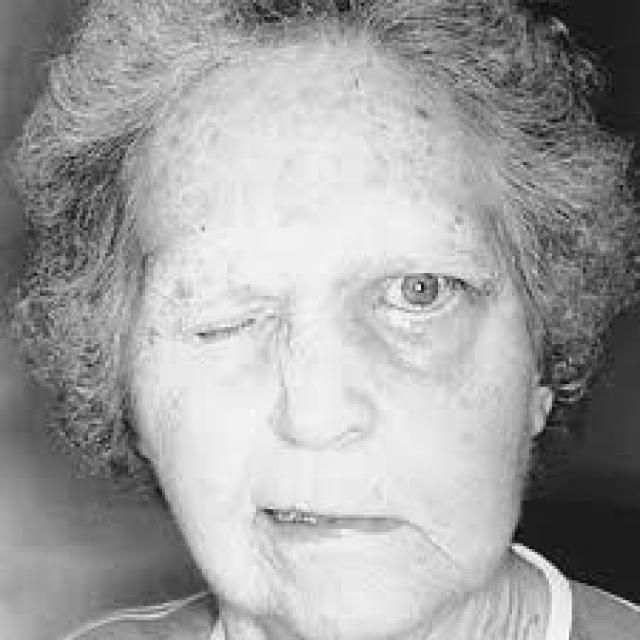stroke_face: (97, 34, 540, 640)
